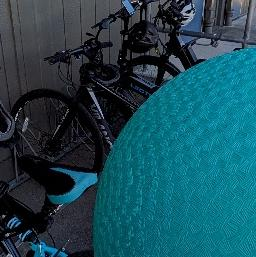algae: (94, 48, 256, 257)
